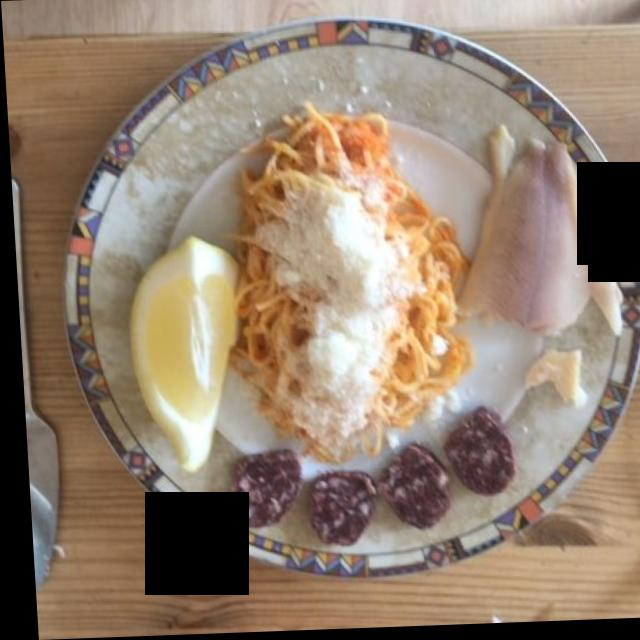carrot-raw: (233, 121, 463, 464)
lemon: (128, 239, 229, 472)
salami: (223, 412, 505, 544)
